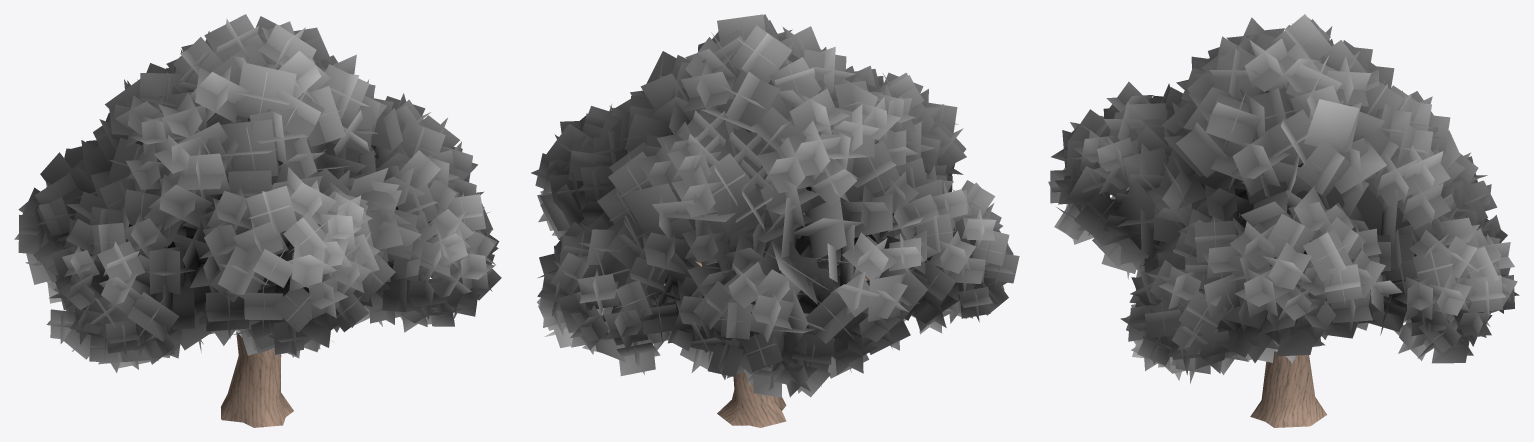
The model's file is b_plant_tree_01.fbx.
The picture shows the model from 3 angles, left to right: view 1: azimuth 30°, elevation 25°; view 2: azimuth 150°, elevation 25°; view 3: azimuth 270°, elevation 25°; orthographic projection.
Visible parts, largest first — view 1: b_plant_tree_01_02, b_plant_tree_01_01; view 2: b_plant_tree_01_02, b_plant_tree_01_01; view 3: b_plant_tree_01_02, b_plant_tree_01_01.
Boxes of the visible parts, box(x1,y1,x2,y2) form: b_plant_tree_01_02: box(14, 14, 501, 372); b_plant_tree_01_01: box(135, 149, 326, 427); b_plant_tree_01_02: box(531, 14, 1019, 398); b_plant_tree_01_01: box(695, 196, 867, 427); b_plant_tree_01_02: box(1048, 14, 1519, 383); b_plant_tree_01_01: box(1250, 351, 1326, 427).
Bounding box in the file's own units: 19947 × 17363 × 19090.
